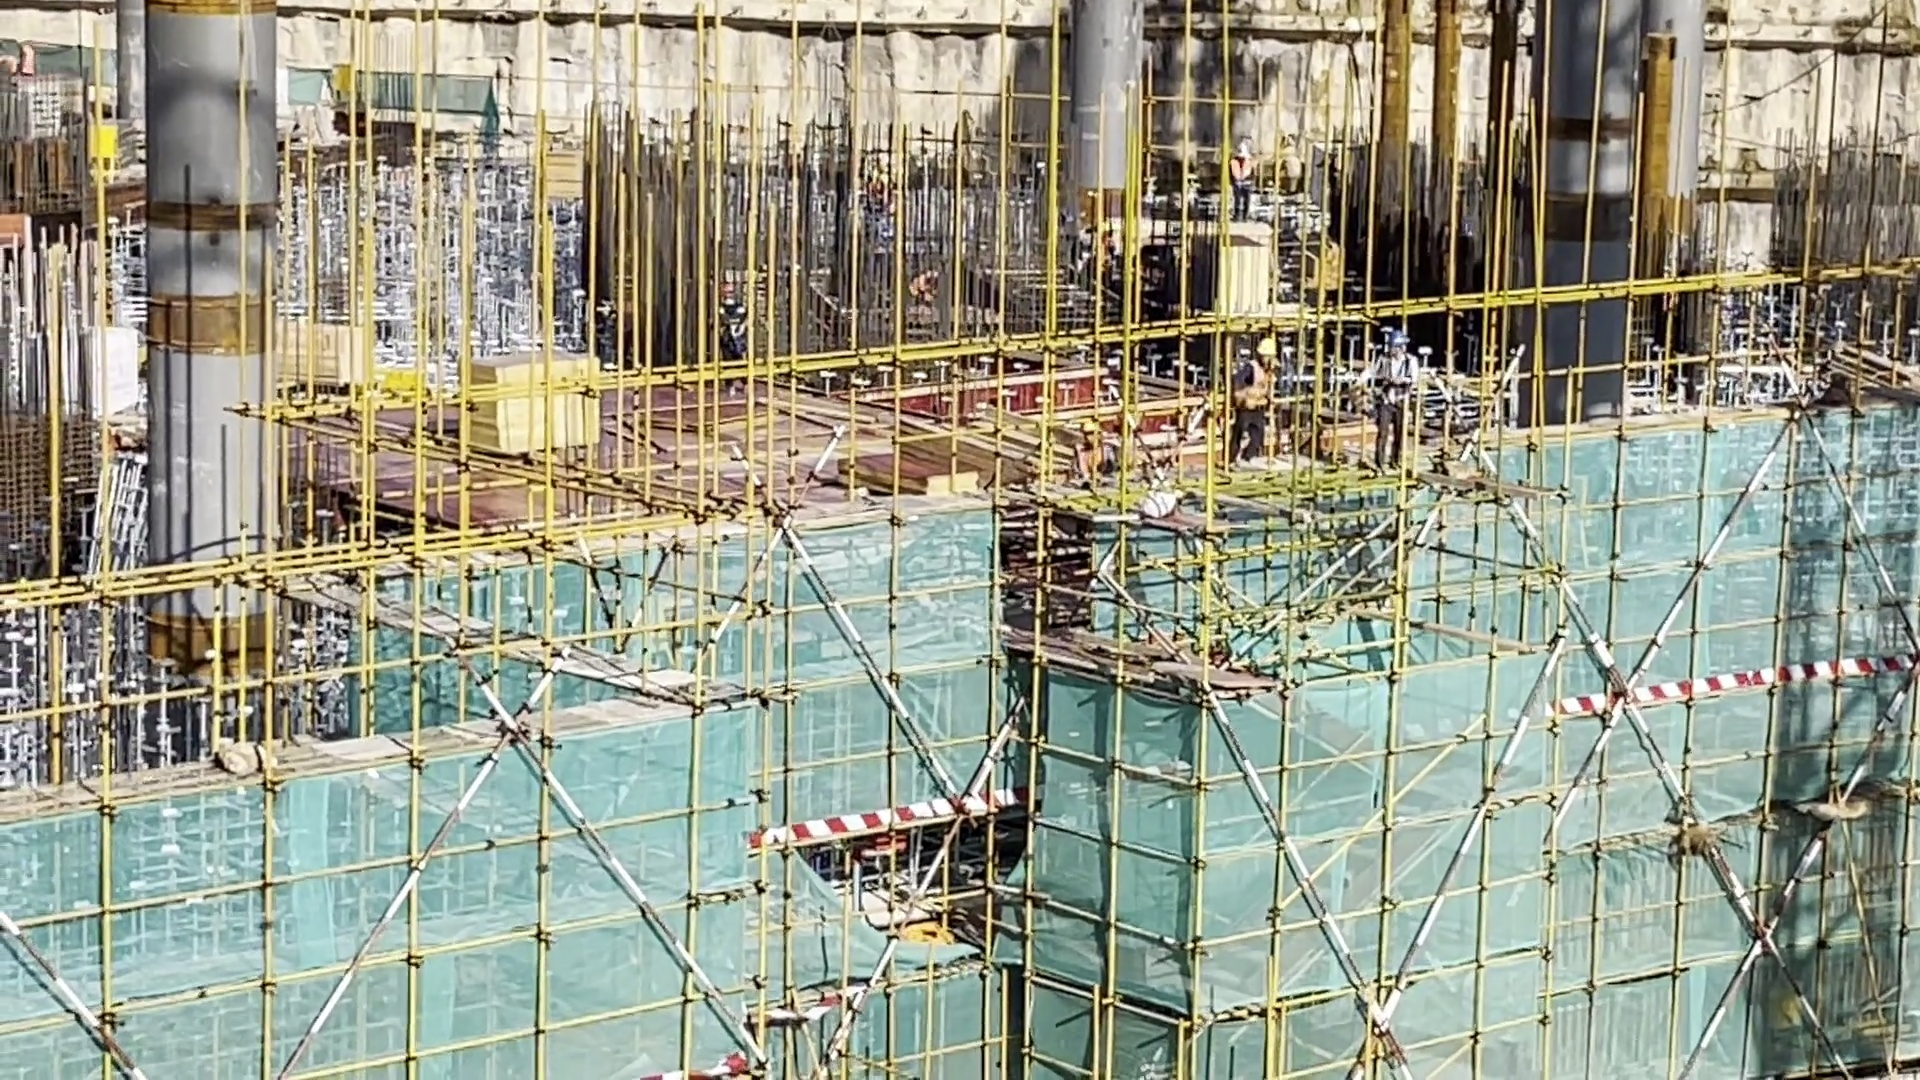board: (453, 351, 613, 456), (854, 446, 964, 527), (529, 147, 603, 192)
helmet: (1084, 424, 1111, 443), (1391, 333, 1414, 356), (1256, 331, 1278, 352), (571, 284, 586, 306), (1236, 142, 1248, 164), (926, 268, 936, 283), (724, 288, 732, 305)
person: (573, 281, 629, 378), (1231, 337, 1274, 462), (1374, 319, 1398, 487), (710, 279, 740, 382), (1227, 128, 1254, 225), (1073, 425, 1108, 499), (1098, 221, 1115, 306), (1, 34, 41, 65), (915, 262, 936, 311)
vest: (1239, 366, 1273, 409), (592, 295, 624, 339), (1383, 349, 1408, 401), (1229, 157, 1253, 190), (726, 308, 744, 354), (1087, 446, 1109, 479), (23, 43, 36, 76), (914, 278, 927, 295)
wood: (929, 407, 1096, 507), (289, 309, 368, 399)
